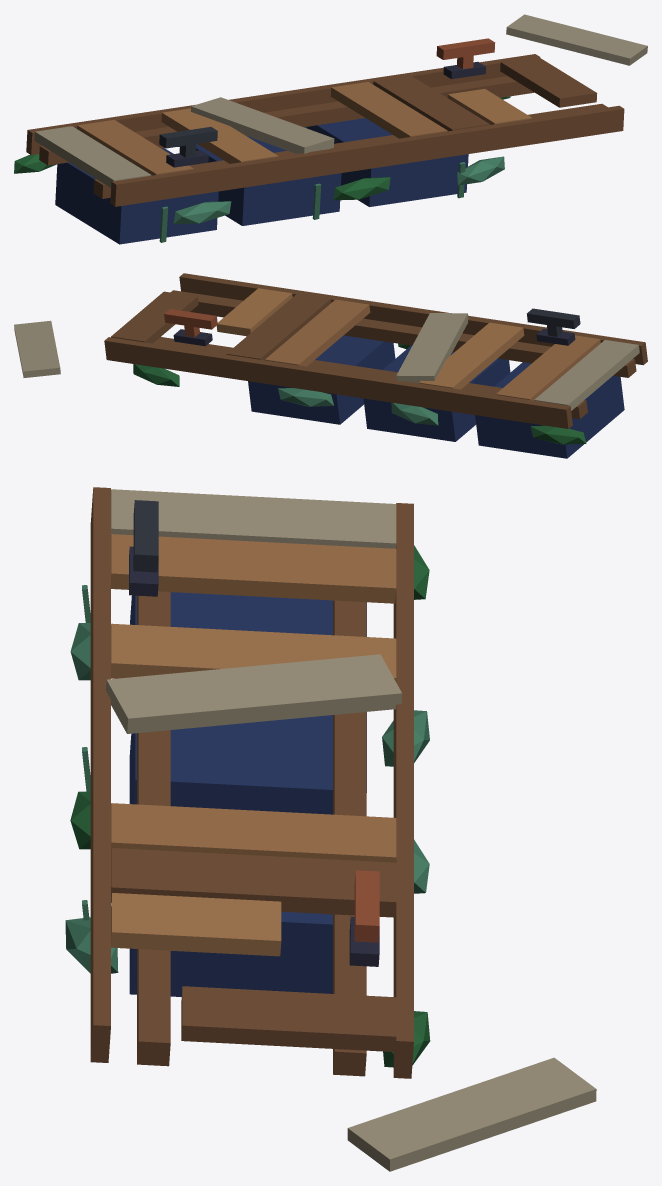
The model's file is pontoon_ruin.glb.
The picture shows the model from 3 angles, top to bottom: view 1: azimuth 30°, elevation 25°; view 2: azimuth 150°, elevation 25°; view 3: azimuth 270°, elevation 25°; orthographic projection. The views are drawn at different scales.
Visible parts, largest first — view 1: pontoon_ruin; view 2: pontoon_ruin; view 3: pontoon_ruin.
Boxes of the visible parts, x1,y1,x2,y2 form: pontoon_ruin: [14, 14, 647, 244]; pontoon_ruin: [14, 273, 647, 458]; pontoon_ruin: [65, 487, 596, 1171].
Bounding box in the file's own units: 7.43 × 1.49 × 2.97.
